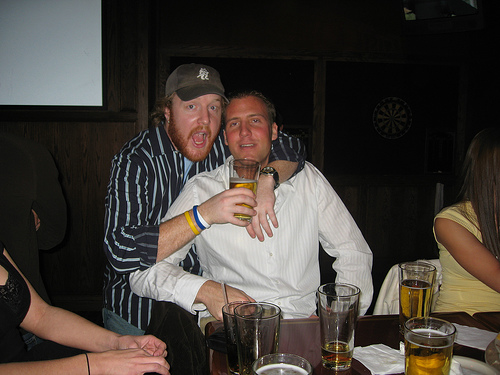without_mask: (162, 91, 222, 154), (223, 102, 278, 164)
